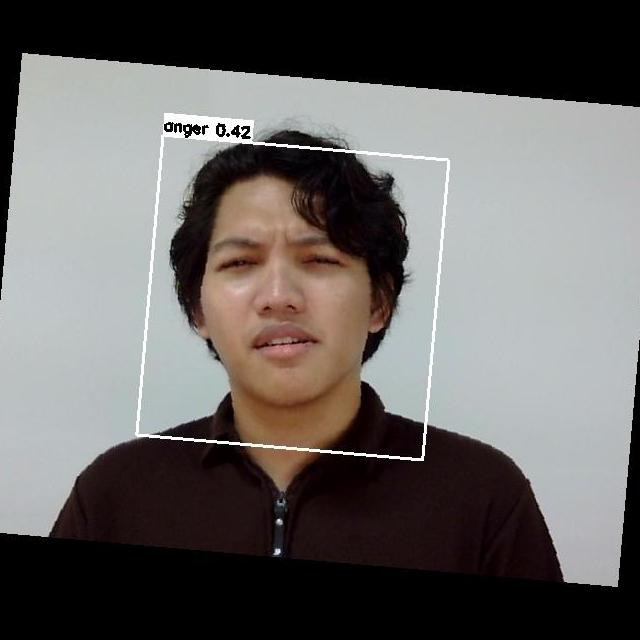Sad: (188, 206, 380, 383)
